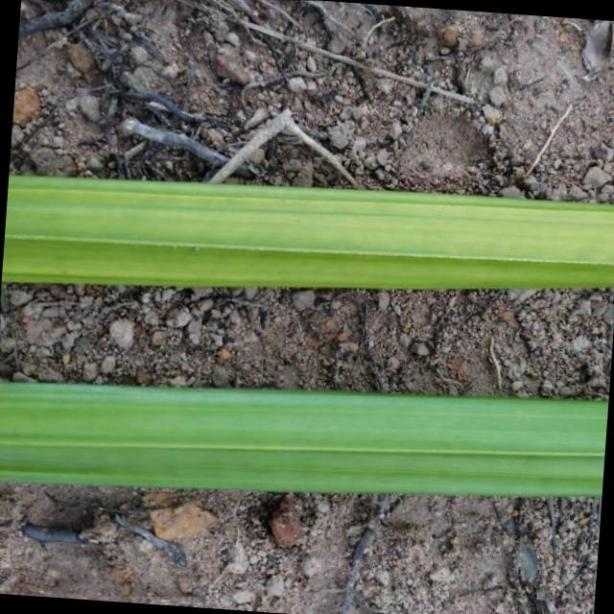nitrogen: (0, 166, 614, 293), (5, 379, 614, 499)
